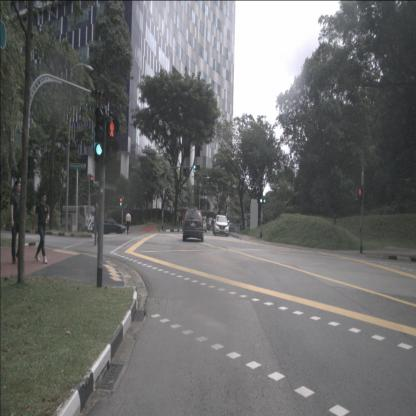human-pedestrian-adult: (32, 191, 50, 264), (10, 181, 25, 264), (94, 200, 100, 246), (126, 210, 132, 234)
vehicle-car: (182, 209, 204, 242), (98, 217, 126, 234), (214, 214, 229, 236), (197, 217, 207, 232), (204, 219, 212, 231), (226, 223, 235, 232)
vehicle-truck: (62, 205, 97, 232)
